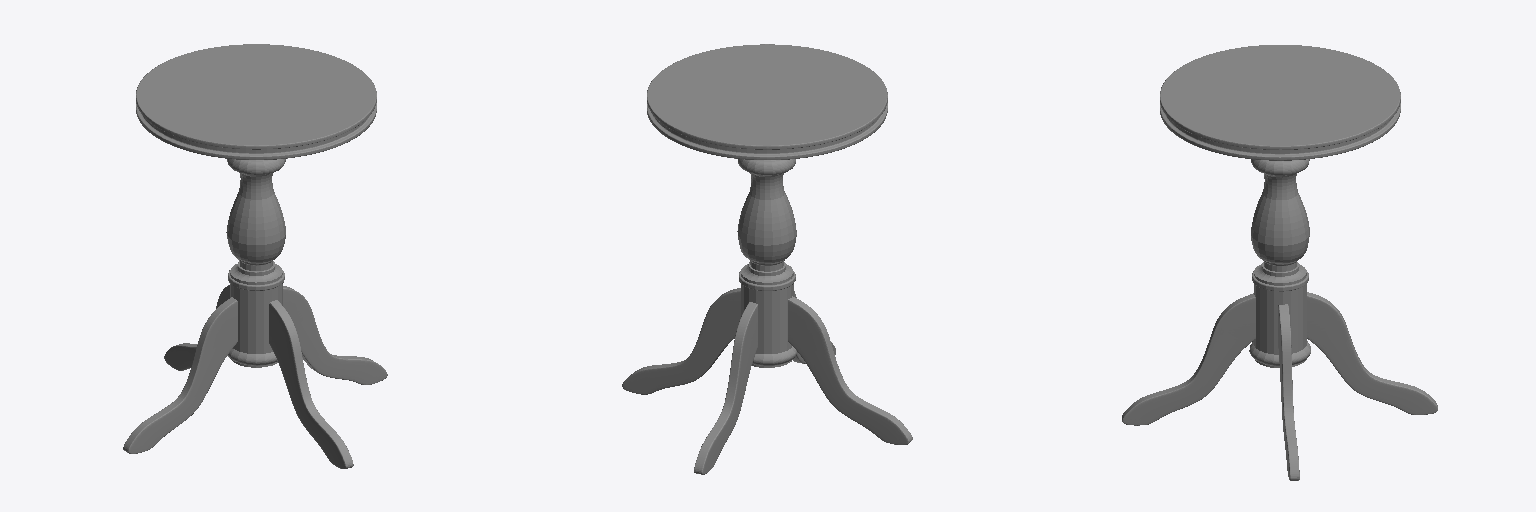
The model's file is table.obj.
3 views of the same model, side by side, from view 1: azimuth 30°, elevation 25°; view 2: azimuth 150°, elevation 25°; view 3: azimuth 270°, elevation 25° (orthographic).
Visible parts, largest first — view 1: Object004, table, Object005; view 2: Object004, table, Object005; view 3: Object004, table, Object005.
Boxes of the visible parts, x1=… form: Object004: x1=136, y1=44, x2=376, y2=159; table: x1=123, y1=285, x2=387, y2=468; Object005: x1=226, y1=159, x2=285, y2=367; Object004: x1=647, y1=44, x2=887, y2=159; table: x1=622, y1=288, x2=912, y2=474; Object005: x1=737, y1=159, x2=797, y2=367; Object004: x1=1160, y1=45, x2=1400, y2=160; table: x1=1122, y1=292, x2=1437, y2=480; Object005: x1=1249, y1=159, x2=1310, y2=367.
Size of the model in its own units: 559 by 628 by 560.